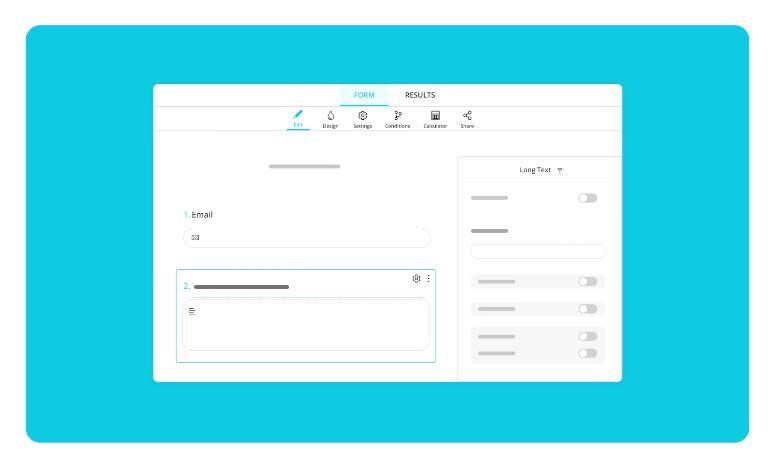button: (338, 84, 392, 108)
icon: (459, 110, 476, 124), (428, 110, 443, 123), (289, 110, 305, 122), (390, 111, 405, 122), (411, 273, 422, 287), (325, 111, 336, 124), (357, 111, 370, 122), (425, 274, 435, 286)
switch: (577, 190, 600, 205), (579, 329, 601, 344), (579, 275, 602, 289), (580, 348, 601, 361), (578, 305, 599, 316)
